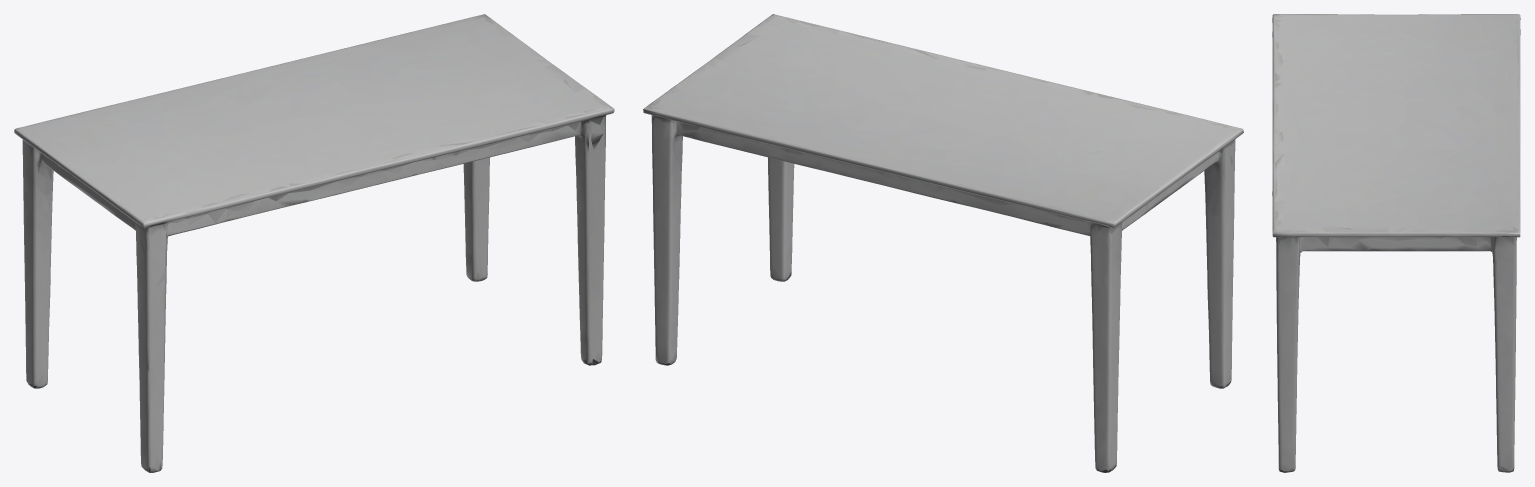
File: 实验桌.glb
3 renders of one model, left to right at view 1: azimuth 30°, elevation 25°; view 2: azimuth 150°, elevation 25°; view 3: azimuth 270°, elevation 25°, orthographic. The views are drawn at different scales.
Visible parts, largest first — view 1: tmpwxnebgy1_simplified; view 2: tmpwxnebgy1_simplified; view 3: tmpwxnebgy1_simplified.
Part boxes in pixels (bbox=[...]): tmpwxnebgy1_simplified: bbox=[14, 14, 614, 472]; tmpwxnebgy1_simplified: bbox=[643, 14, 1243, 472]; tmpwxnebgy1_simplified: bbox=[1272, 14, 1520, 472].
Bounding box in the file's own units: 2.01 × 1.05 × 0.957.
1 material, 1 textured.
